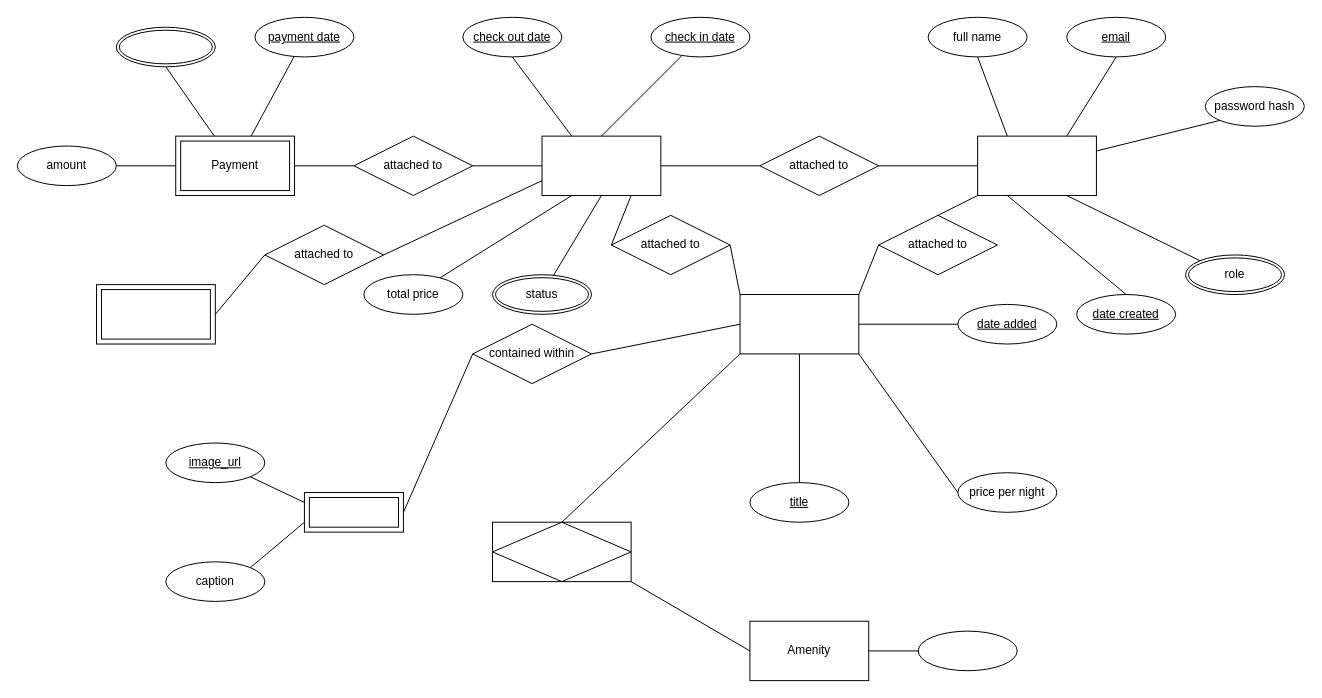
This 1322x698 diagram has some shape labels left out. Here are the shapes that lost their labels. From the top down, the centre of each, then its label:
point 165,46: payment method
point 601,165: Booking
point 1036,165: User
point 155,314: Review
point 799,324: Property
point 353,512: Property Image
point 561,551: Property Amenity
point 967,650: name
